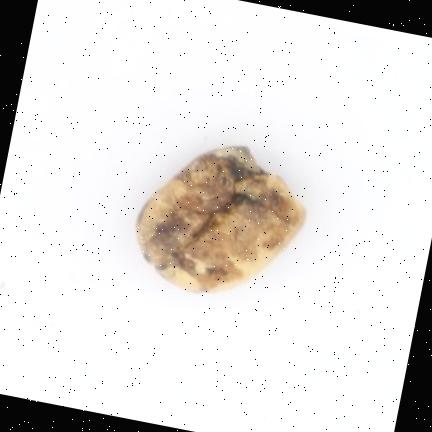partial-black: (138, 146, 306, 292)
